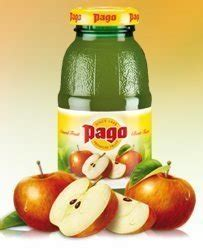apple: (13, 168, 77, 236), (124, 170, 197, 228)
